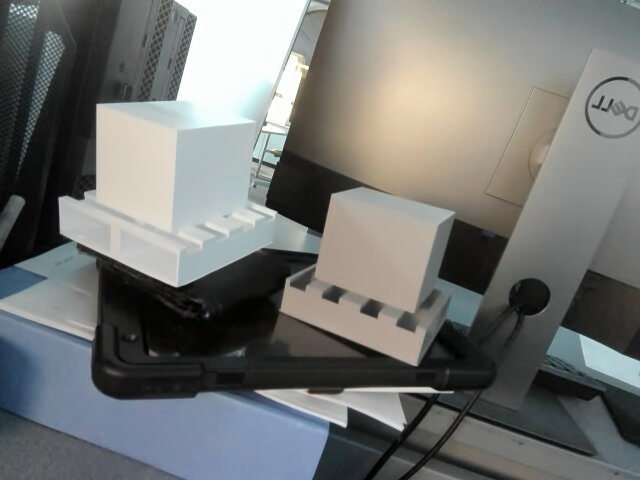grey pallet: (274, 172, 458, 368)
white pallet: (50, 86, 285, 291)
